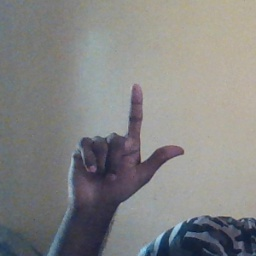L: (67, 82, 186, 202)
